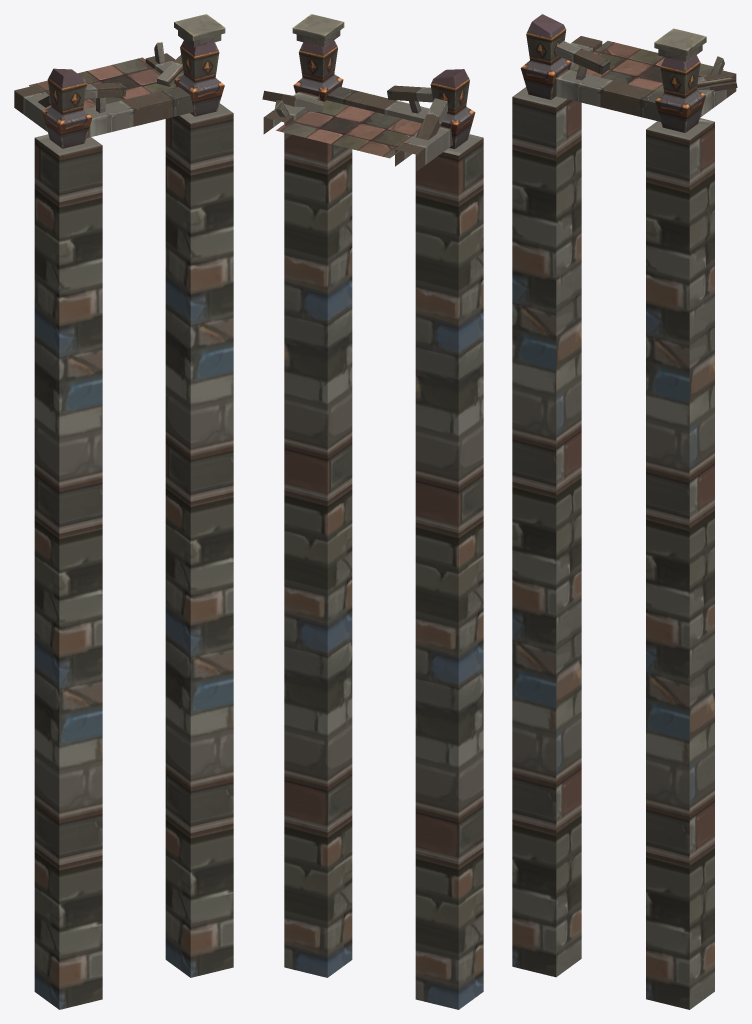
The model's file is langan_03.FBX.
The picture shows the model from 3 angles, left to right: view 1: azimuth 30°, elevation 25°; view 2: azimuth 150°, elevation 25°; view 3: azimuth 330°, elevation 25°; orthographic projection.
Visible parts, largest first — view 1: 对象382, Box481, Box483, Plane77; view 2: 对象382, Box483, Box481, Plane77; view 3: 对象382, Box481, Box483, Plane77.
Part boxes in pixels (left/top/right/bottom): 对象382: left=34, top=103, right=233, bottom=1009; Box481: left=42, top=14, right=225, bottom=148; Box483: left=14, top=53, right=193, bottom=138; Plane77: left=29, top=57, right=176, bottom=109; 对象382: left=284, top=122, right=483, bottom=1009; Box483: left=262, top=85, right=452, bottom=171; Box481: left=275, top=14, right=475, bottom=148; Plane77: left=276, top=100, right=421, bottom=158; 对象382: left=512, top=87, right=714, bottom=1009; Box481: left=520, top=14, right=724, bottom=132; Box483: left=552, top=36, right=737, bottom=121; Plane77: left=570, top=41, right=723, bottom=92.
Size of the model in its own units: 3.9 by 19.33 by 2.33.
